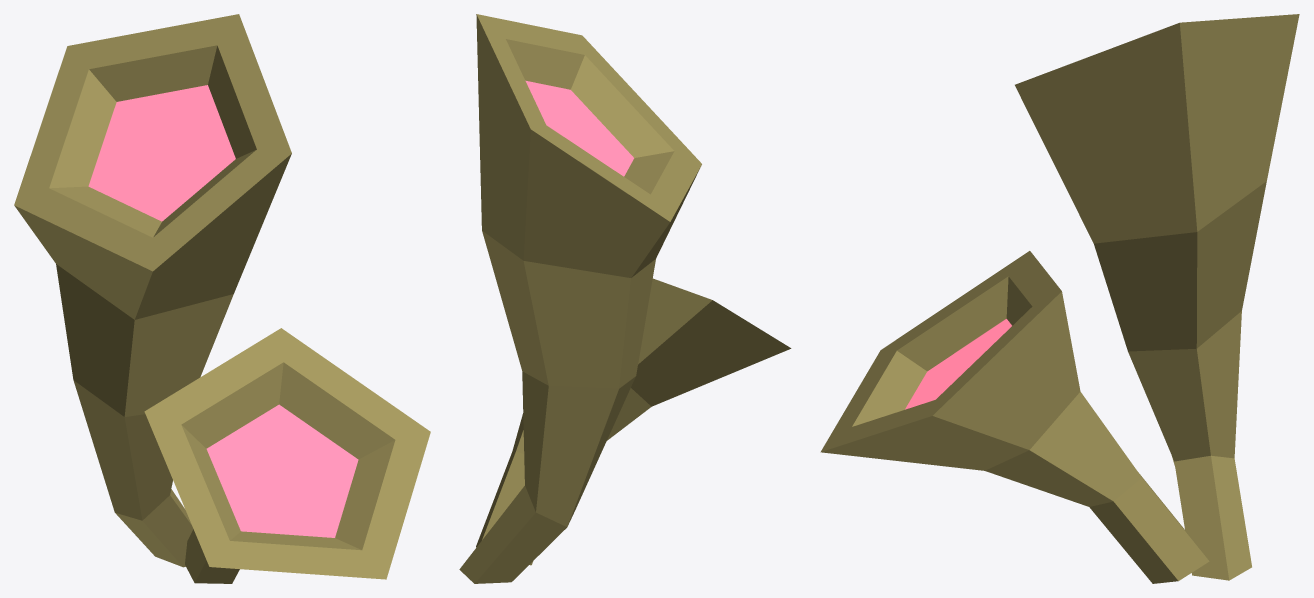
The model's file is LPSciFi_AlienPlantH3.fbx.
3 views of the same model, side by side, from view 1: azimuth 30°, elevation 25°; view 2: azimuth 150°, elevation 25°; view 3: azimuth 270°, elevation 25° (orthographic). The views are drawn at different scales.
Visible parts, largest first — view 1: AlienPlantH3; view 2: AlienPlantH3; view 3: AlienPlantH3.
Part boxes in pixels (bbox=[...]): AlienPlantH3: bbox=[14, 14, 430, 583]; AlienPlantH3: bbox=[459, 14, 791, 583]; AlienPlantH3: bbox=[820, 14, 1299, 583].
Size of the model in its own units: 93.71 by 176 by 134.
